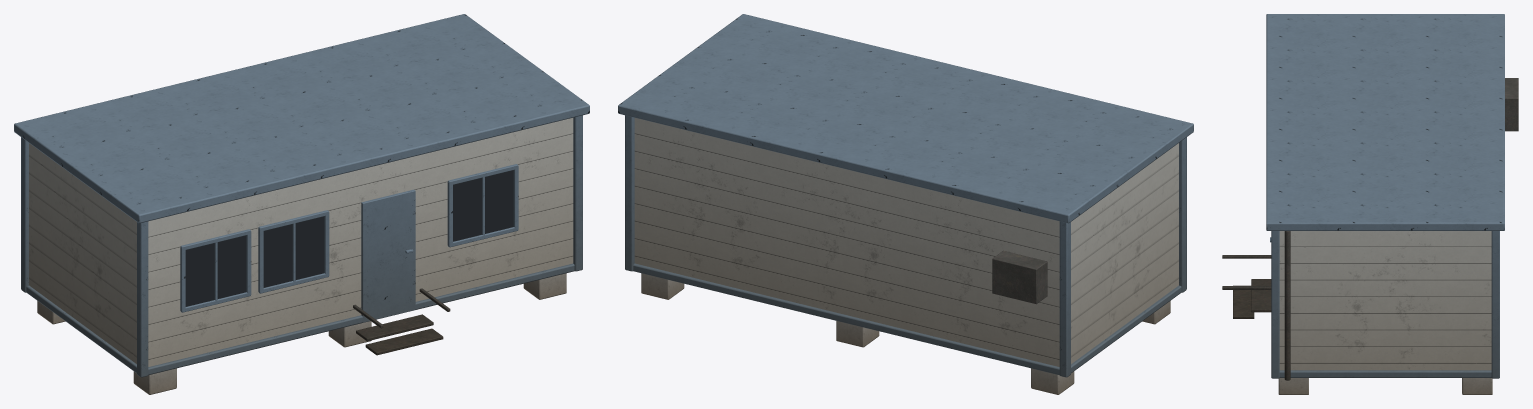
File: prop_office.glb
3 renders of one model, left to right at view 1: azimuth 30°, elevation 25°; view 2: azimuth 150°, elevation 25°; view 3: azimuth 270°, elevation 25°, orthographic. The views are drawn at different scales.
Visible parts, largest first — view 1: Frame, Body, WindowFrames, Windows, Feet, Fittings; view 2: Body, Frame, Feet, Fittings; view 3: Frame, Body, Fittings, Feet.
Part boxes in pixels (x1=…): Frame: x1=14, y1=14, x2=589, y2=377; Body: x1=29, y1=118, x2=573, y2=366; WindowFrames: x1=180, y1=164, x2=518, y2=322; Windows: x1=185, y1=170, x2=513, y2=306; Feet: x1=37, y1=273, x2=566, y2=394; Fittings: x1=353, y1=288, x2=450, y2=355; Body: x1=634, y1=118, x2=1178, y2=366; Frame: x1=618, y1=14, x2=1193, y2=377; Feet: x1=641, y1=273, x2=1170, y2=394; Fittings: x1=992, y1=250, x2=1047, y2=304; Frame: x1=1266, y1=14, x2=1504, y2=378; Body: x1=1279, y1=231, x2=1491, y2=370; Fittings: x1=1222, y1=78, x2=1518, y2=380; Feet: x1=1278, y1=378, x2=1492, y2=394.
Bounding box in the file's own units: 8.1 × 3.24 × 4.85.
5 materials, 4 textured.
